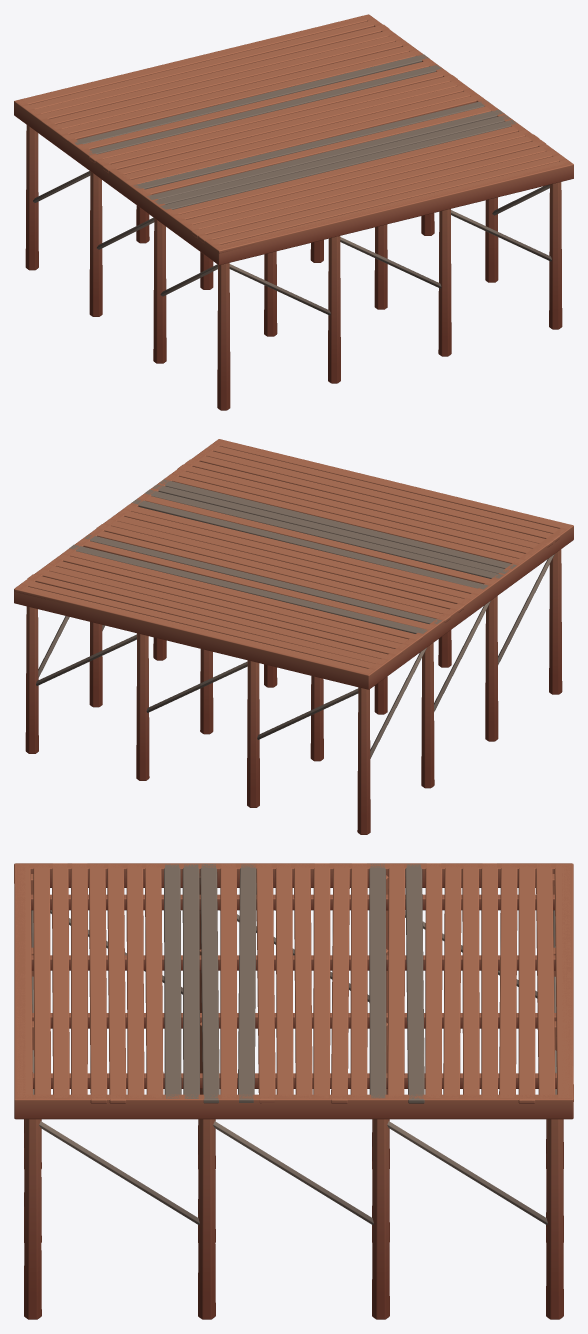
The model's file is stilt_platform.glb.
3 views of the same model, one above another, from view 1: azimuth 30°, elevation 25°; view 2: azimuth 150°, elevation 25°; view 3: azimuth 270°, elevation 25° (orthographic). The views are drawn at different scales.
Visible parts, largest first — view 1: stilt_platform; view 2: stilt_platform; view 3: stilt_platform.
Part boxes in pixels (x1,y1,x2,y2): stilt_platform: [14, 14, 573, 410]; stilt_platform: [14, 439, 573, 834]; stilt_platform: [14, 863, 573, 1319].
Size of the model in its own units: 9.03 by 4 by 9.01.
1 material, 1 textured.
